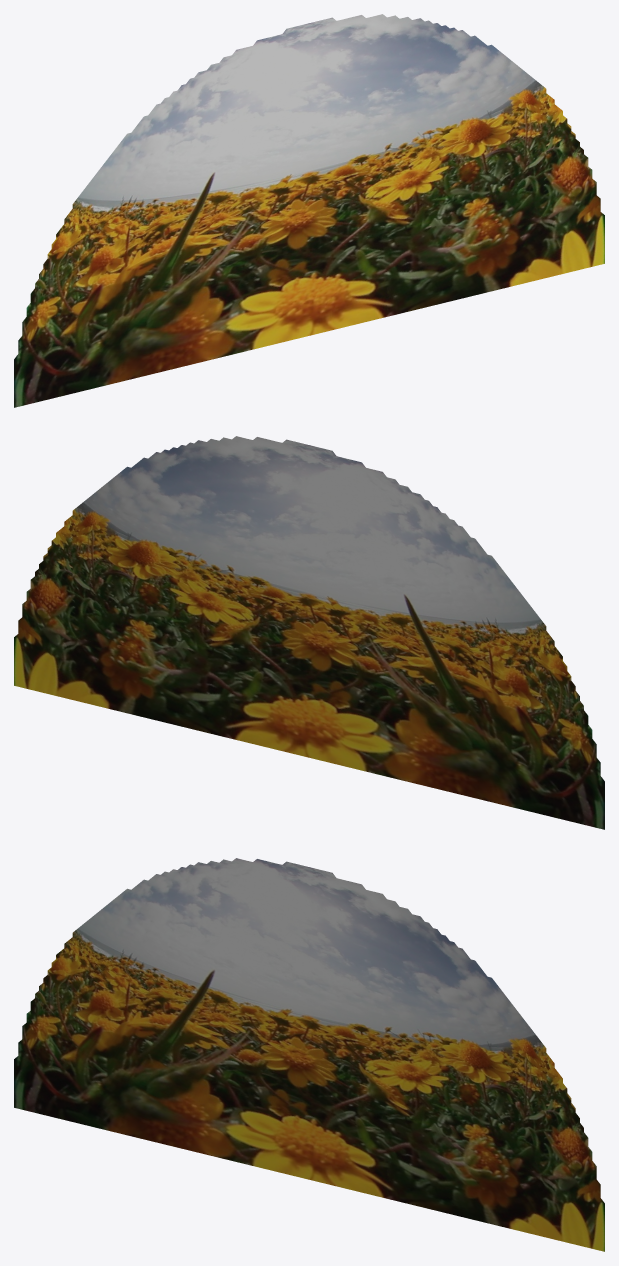
Rendered from pbMeshFishEyeLH.fbx.
3 views of the same model, one above another, from view 1: azimuth 30°, elevation 25°; view 2: azimuth 150°, elevation 25°; view 3: azimuth 330°, elevation 25° (orthographic).
Visible parts, largest first — view 1: warp1:Mesh; view 2: warp1:Mesh; view 3: warp1:Mesh.
Part boxes in pixels (x1,y1,x2,y2): warp1:Mesh: [14, 14, 604, 407]; warp1:Mesh: [14, 436, 604, 829]; warp1:Mesh: [14, 858, 604, 1251].
Bounding box in the file's own units: 3.56 × 1.8 × 0.
